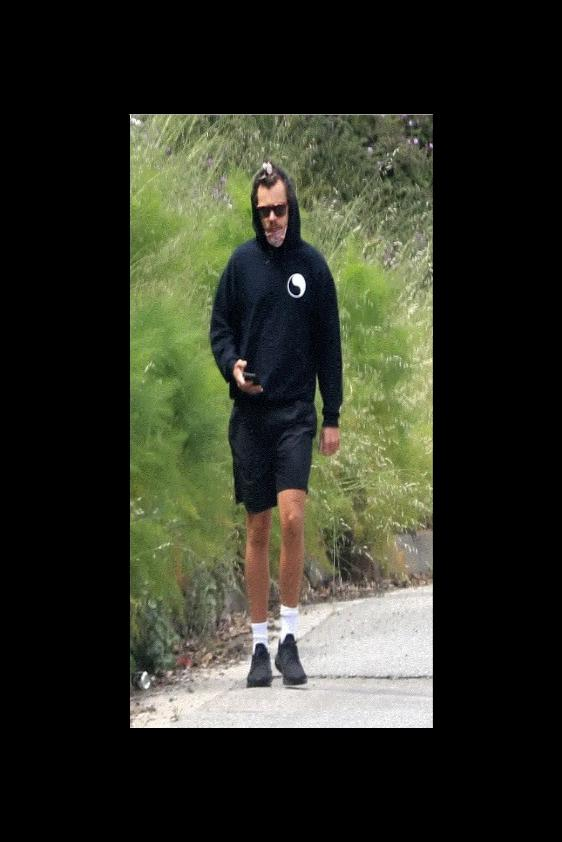mask_weared_incorrect: (258, 195, 289, 242)
